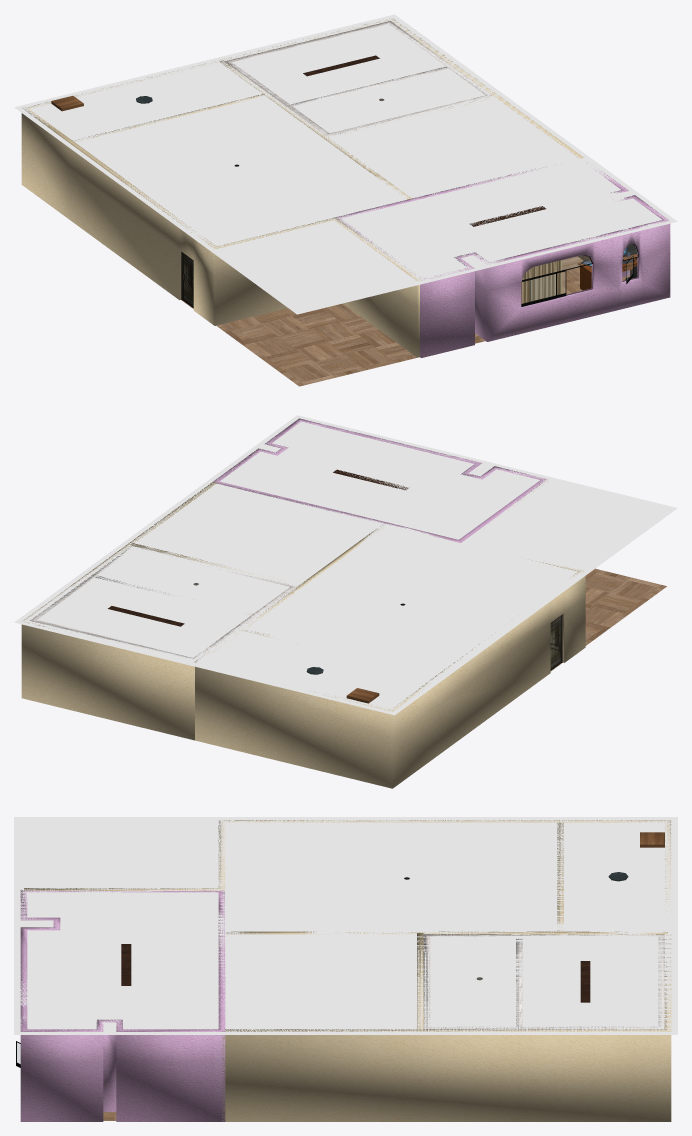
File: DoriHome.fbx
3 views of the same model, one above another, from view 1: azimuth 30°, elevation 25°; view 2: azimuth 150°, elevation 25°; view 3: azimuth 270°, elevation 25° (orthographic). The views are drawn at different scales.
Parts seen in each view (by area): view 1: techo, wall, walls, floor, wall.001, curtain, wdw.003, wdw.002, wdw.001, Plane.009; view 2: techo, wall, floor, walls, wall.001, Plane.009; view 3: techo, wall, walls, wall.001, lightbulb, lightbulb.001.
Part boxes in pixels (x1,y1,x2,y2): techo: (14,14,677,314); wall: (21,18,583,357); walls: (335,162,670,357); floor: (181,256,629,386); wall.001: (225,21,492,136); curtain: (521,260,562,303); wdw.003: (521,273,556,306); wdw.002: (529,270,566,301); wdw.001: (522,255,592,280); Plane.009: (182,252,193,307); techo: (14,415,677,715); wall: (21,482,585,788); floor: (550,568,666,671); walls: (212,418,547,542); wall.001: (29,545,295,660); Plane.009: (550,615,561,670); techo: (14,817,677,1034); wall: (24,820,671,1121); walls: (20,890,225,1121); wall.001: (423,934,664,1029); lightbulb: (121,944,131,985); lightbulb.001: (580,961,590,1002).
Size of the model in its own units: 1560 by 313 by 2010.
Materials: 17 (15 with a texture image).
